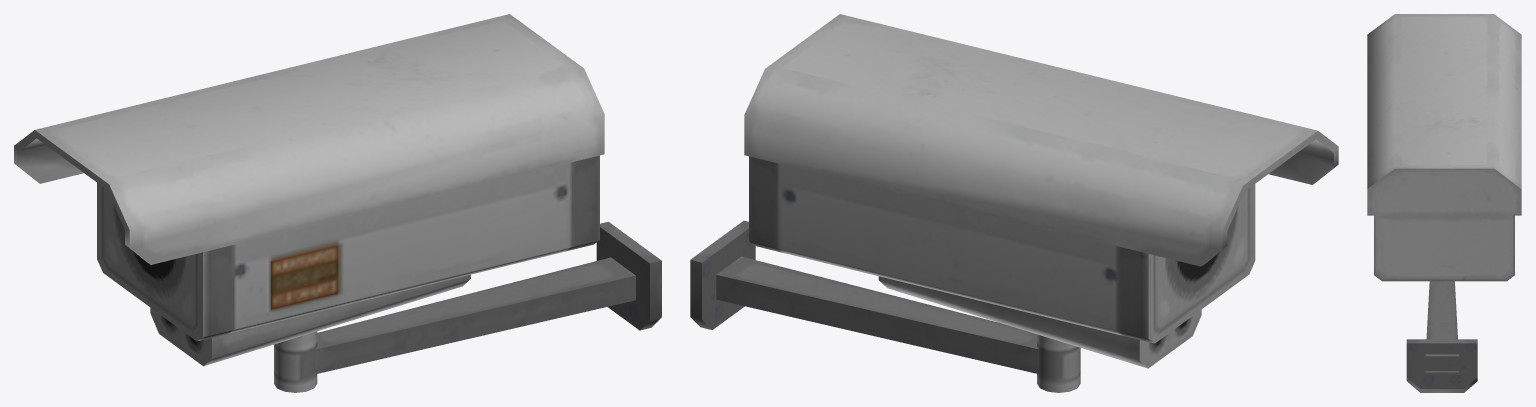
Rendered from CP_Surveillance_Camera.fbx.
The picture shows the model from 3 angles, left to right: view 1: azimuth 30°, elevation 25°; view 2: azimuth 150°, elevation 25°; view 3: azimuth 270°, elevation 25°; orthographic projection. The views are drawn at different scales.
Visible parts, largest first — view 1: CP_Surveillance_Camera_01, CP_Surveillance_Camera_02; view 2: CP_Surveillance_Camera_01, CP_Surveillance_Camera_02; view 3: CP_Surveillance_Camera_01, CP_Surveillance_Camera_02.
Part boxes in pixels (x1=…): CP_Surveillance_Camera_01: x1=14, y1=14, x2=604, y2=366; CP_Surveillance_Camera_02: x1=274, y1=221, x2=661, y2=392; CP_Surveillance_Camera_01: x1=744, y1=14, x2=1338, y2=368; CP_Surveillance_Camera_02: x1=690, y1=220, x2=1080, y2=392; CP_Surveillance_Camera_01: x1=1367, y1=14, x2=1521, y2=281; CP_Surveillance_Camera_02: x1=1406, y1=281, x2=1477, y2=392.
Bounding box in the file's own units: 47.53 × 23.81 × 16.95.
